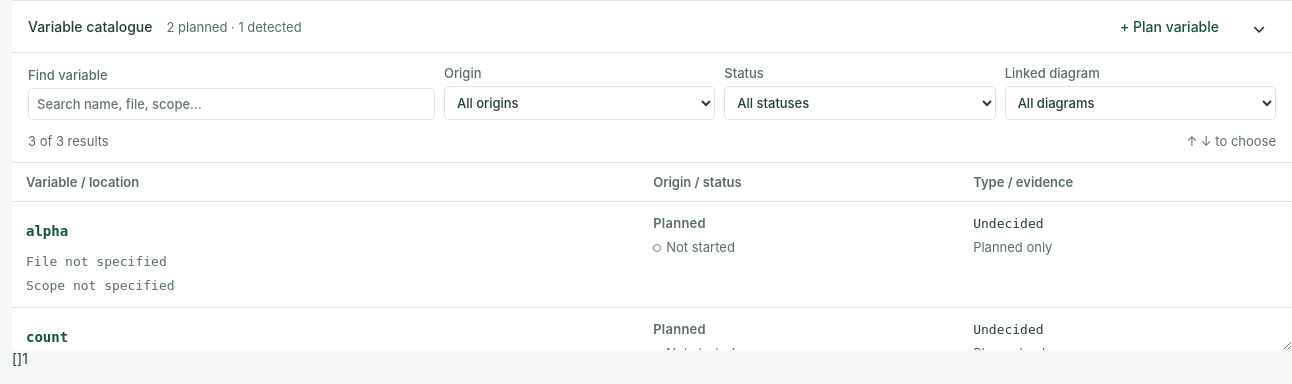
Test: catalogue navigation and decisions › clears filters and moves keyboard selection without adding project history
Type "absent" into the field named "Search variables" at x=232, y=104, box [28,88,435,120]
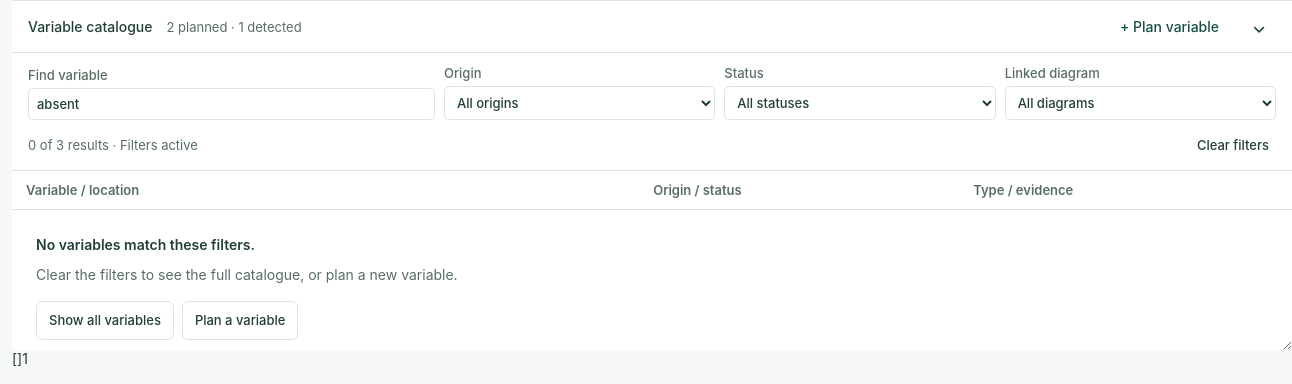
Now the text "0 of 3 results · Filters active" is shown, box [28,137,198,153]
Now the text "No variables match these filters." is shown, box [36,236,255,253]
Click the button "Clear filters" at x=1233, y=145, box [1190,128,1276,162]
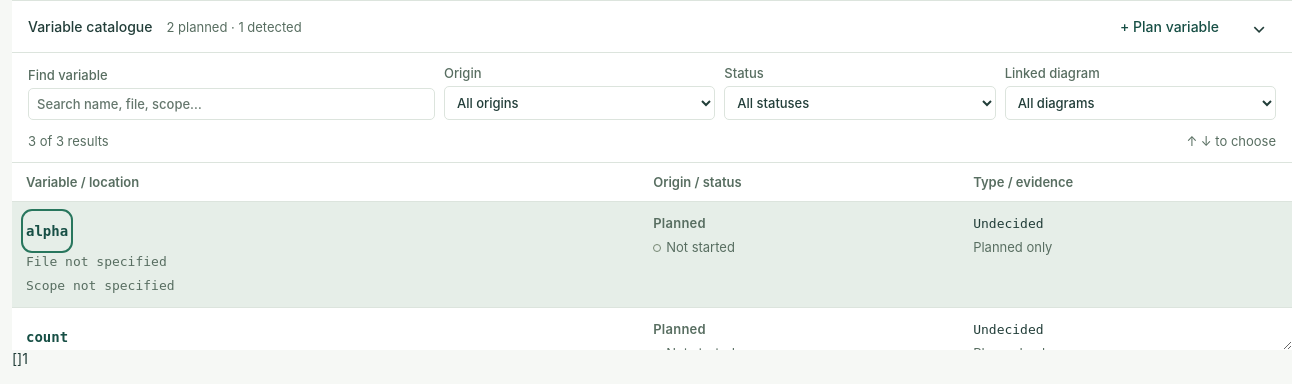
Press ArrowDown in the button "alpha", box [26,214,68,248]
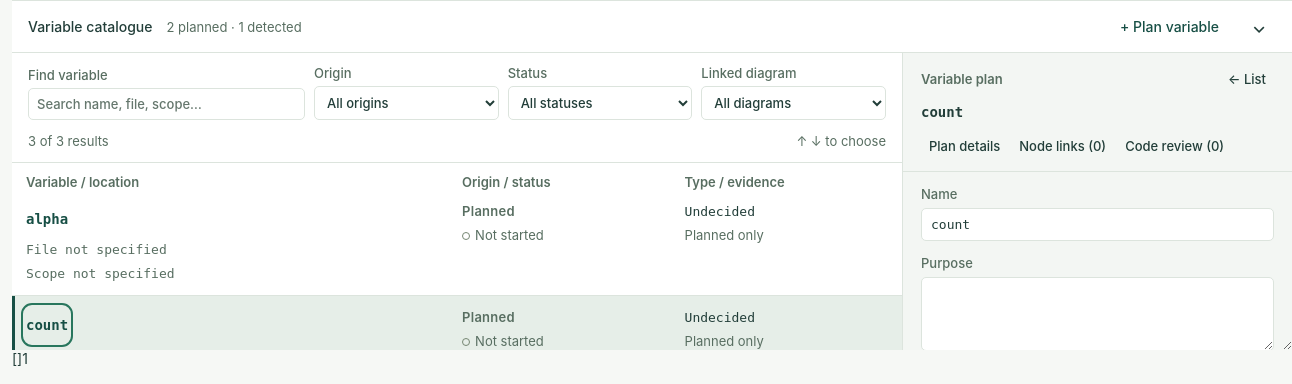
Now the field labelled "Name" holds "count", box [921,208,1274,241]
Press End in the button "count", box [26,308,68,342]
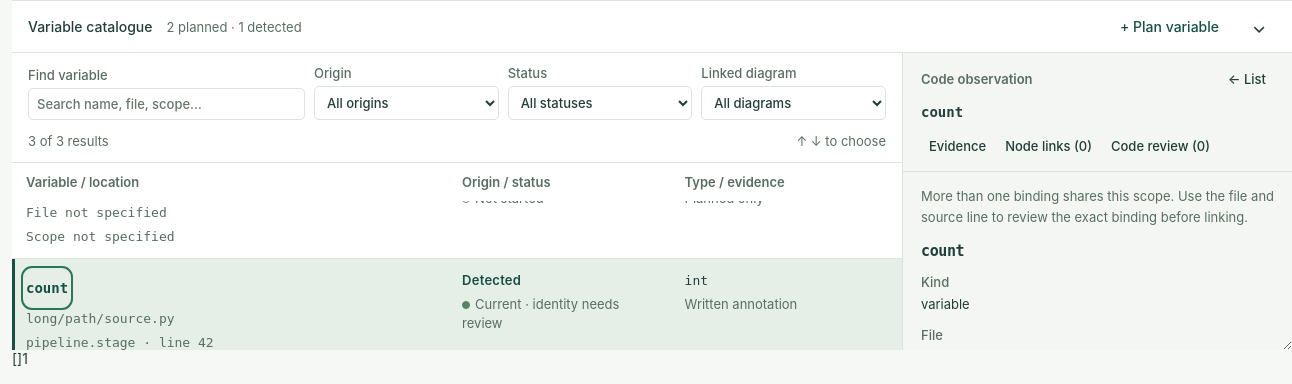
Expected: the text with test id "history" reads "1", [22,350,28,367]
Now the text "More than one binding shares this scope" is shown, box [921,188,1274,225]
